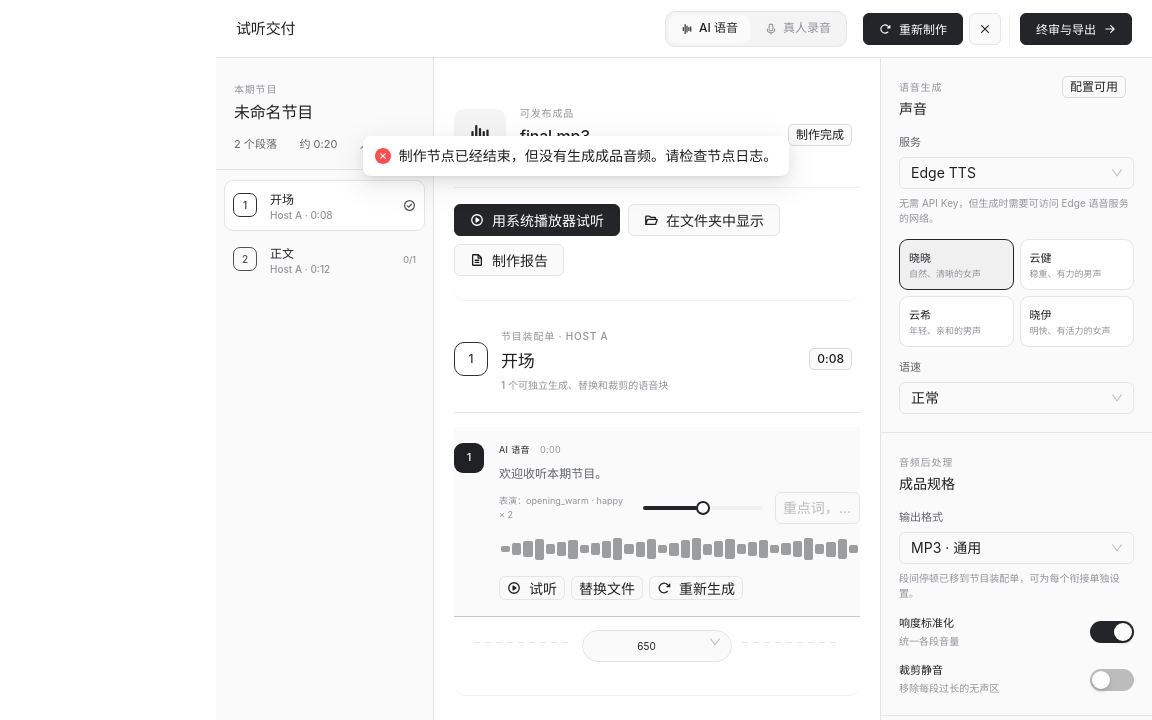
Test: SoundStudio production workflow › restores the last valid artifact references when a rebuild fails
Click the button "重新制作" at (913, 28), box x1=863 y1=12 x2=963 y2=44
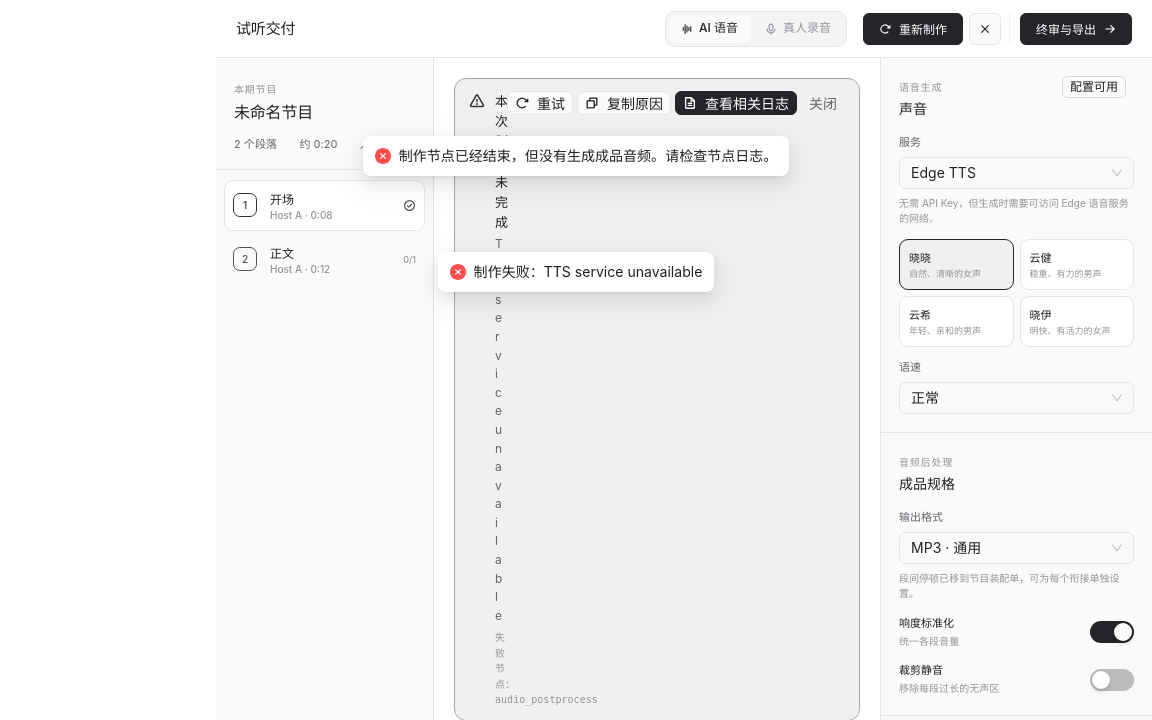
Check: the text "TTS service unavailable" is shown, box x1=495 y1=235 x2=497 y2=626
